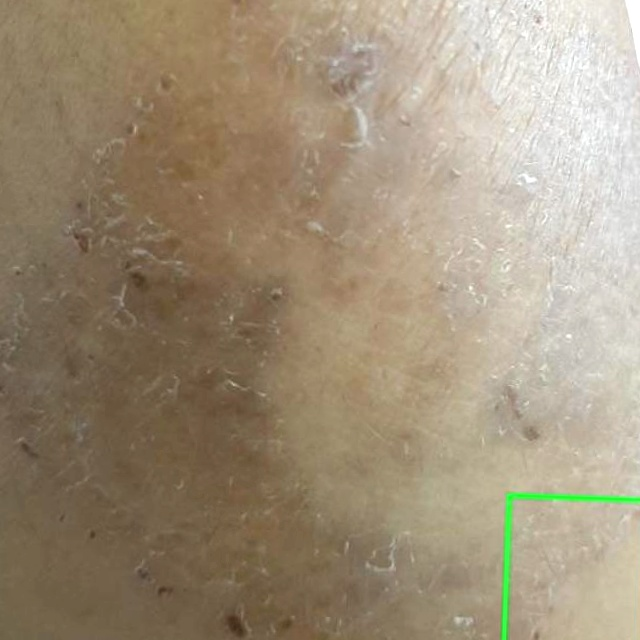Tinea Corporis: (503, 495, 639, 639)
